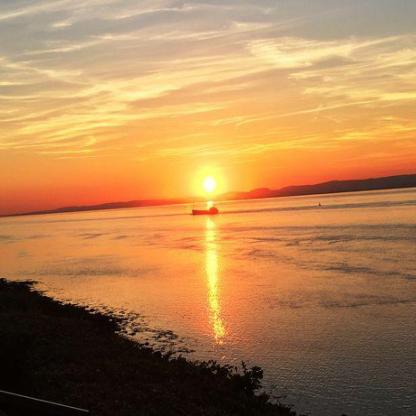other: (12, 175, 167, 205), (245, 151, 399, 178), (186, 162, 230, 212)
